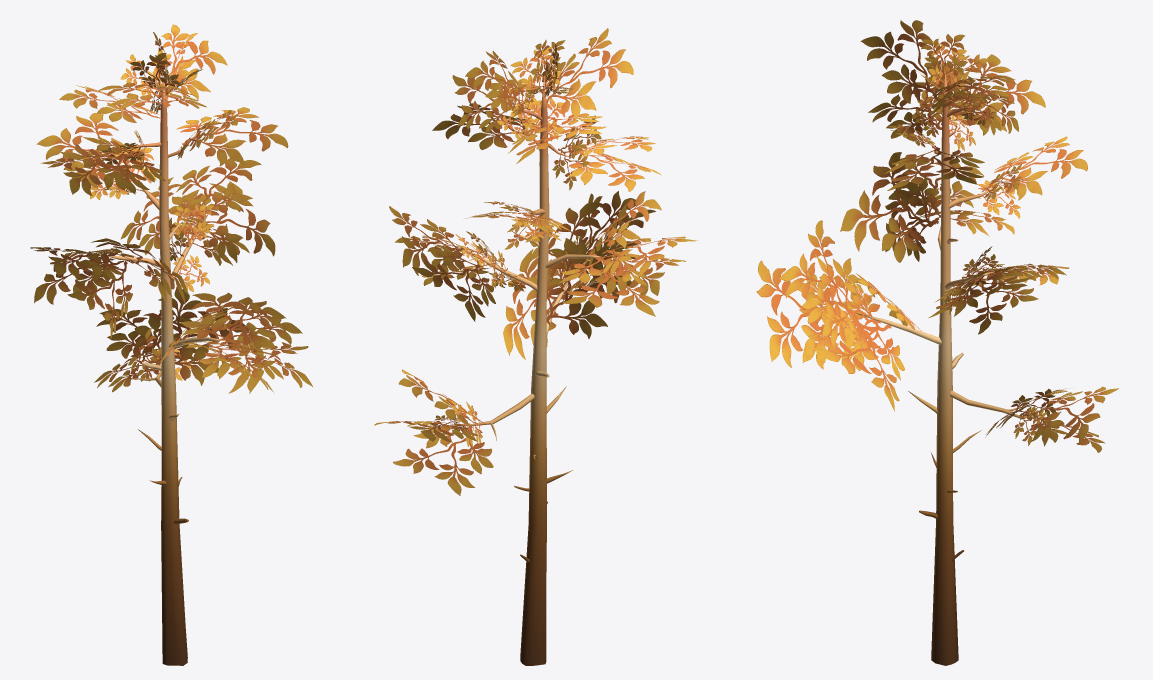
Rendered from Tree_8.fbx.
3 renders of one model, left to right at view 1: azimuth 30°, elevation 25°; view 2: azimuth 150°, elevation 25°; view 3: azimuth 270°, elevation 25°, orthographic.
Parts seen in each view (by area): view 1: Foliage, Trunk8; view 2: Foliage, Trunk8; view 3: Foliage, Trunk8.
Part boxes in pixels (box(x1,y1,x2,y2)): Foliage: box(30, 24, 312, 393); Trunk8: box(108, 76, 224, 665); Foliage: box(374, 28, 697, 495); Trunk8: box(455, 75, 601, 665); Foliage: box(756, 20, 1118, 452); Trunk8: box(856, 72, 1033, 665).
Size of the model in its own units: 336 by 703 by 397.
